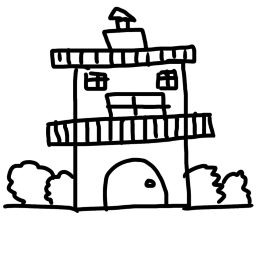chimney: (102, 0, 147, 30)
closed_window: (79, 67, 117, 96), (152, 63, 182, 92)
door: (96, 156, 178, 216)
roof: (36, 106, 228, 146), (42, 42, 210, 70)
wall: (65, 135, 201, 222)
